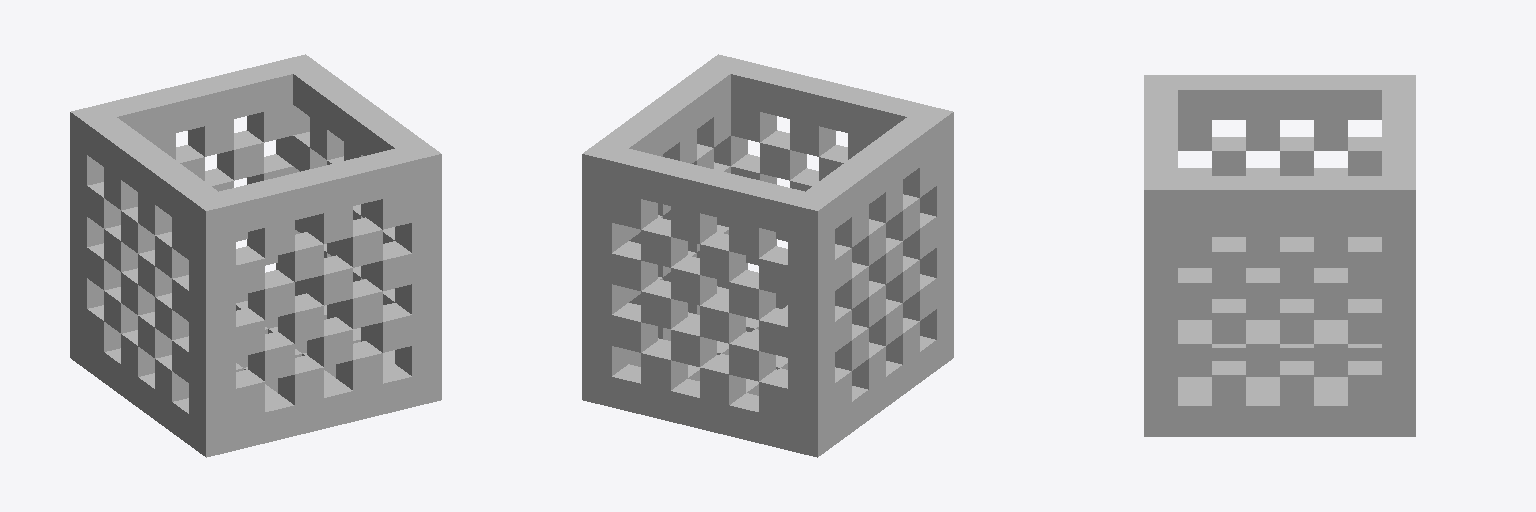
The model's file is milk crate.obj.
3 views of the same model, side by side, from view 1: azimuth 30°, elevation 25°; view 2: azimuth 150°, elevation 25°; view 3: azimuth 270°, elevation 25° (orthographic).
Parts seen in each view (by area): view 1: milk crate; view 2: milk crate; view 3: milk crate.
Boxes of the visible parts, x1,y1,x2,y2 form: milk crate: [70, 54, 441, 457]; milk crate: [582, 54, 953, 457]; milk crate: [1144, 75, 1415, 436].
Size of the model in its own units: 8 by 8 by 8.